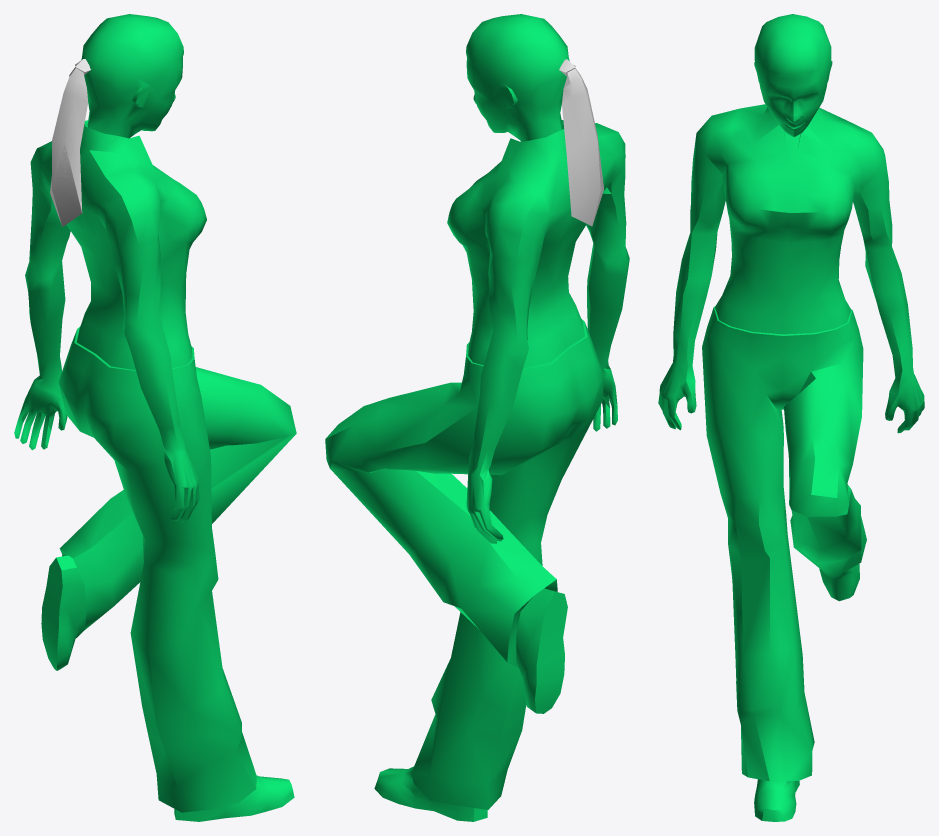
File: SM_Woman_Pants_Stand_Leaning.glb
The picture shows the model from 3 angles, left to right: view 1: azimuth 30°, elevation 25°; view 2: azimuth 150°, elevation 25°; view 3: azimuth 270°, elevation 25°; orthographic projection. The views are drawn at different scales.
Parts seen in each view (by area): view 1: SM_Woman_Pants_Stand_Leaning; view 2: SM_Woman_Pants_Stand_Leaning; view 3: SM_Woman_Pants_Stand_Leaning.
Part boxes in pixels (<box>): SM_Woman_Pants_Stand_Leaning: <box>14,14,296,821</box>; SM_Woman_Pants_Stand_Leaning: <box>325,14,629,821</box>; SM_Woman_Pants_Stand_Leaning: <box>658,14,924,821</box>.
Size of the model in its own units: 0.5489 by 1.69 by 0.5521.
